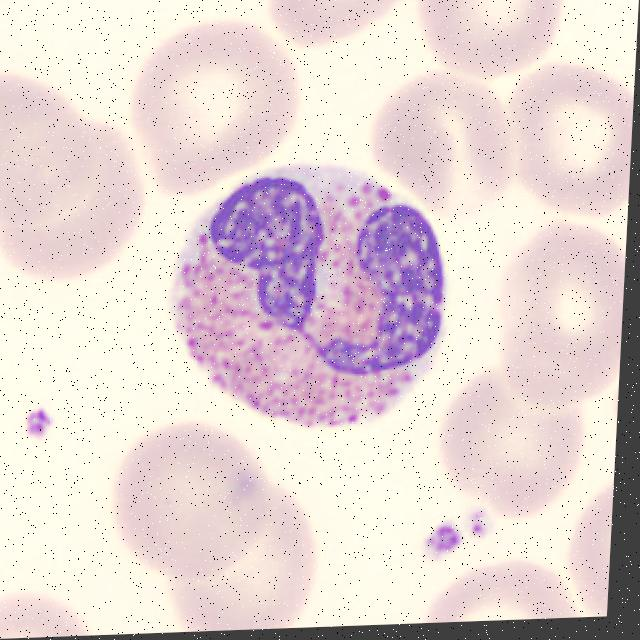eosinophil: (150, 163, 463, 442)
platelets: (411, 509, 495, 563), (11, 404, 57, 440)
rbc: (138, 16, 311, 197), (166, 480, 345, 632), (98, 430, 268, 587), (0, 116, 149, 287), (496, 223, 627, 410), (505, 55, 636, 222), (433, 375, 581, 522), (378, 68, 515, 217), (0, 64, 108, 244), (414, 0, 568, 88), (402, 553, 581, 624), (556, 477, 614, 618), (270, 0, 416, 51), (0, 585, 100, 640)
